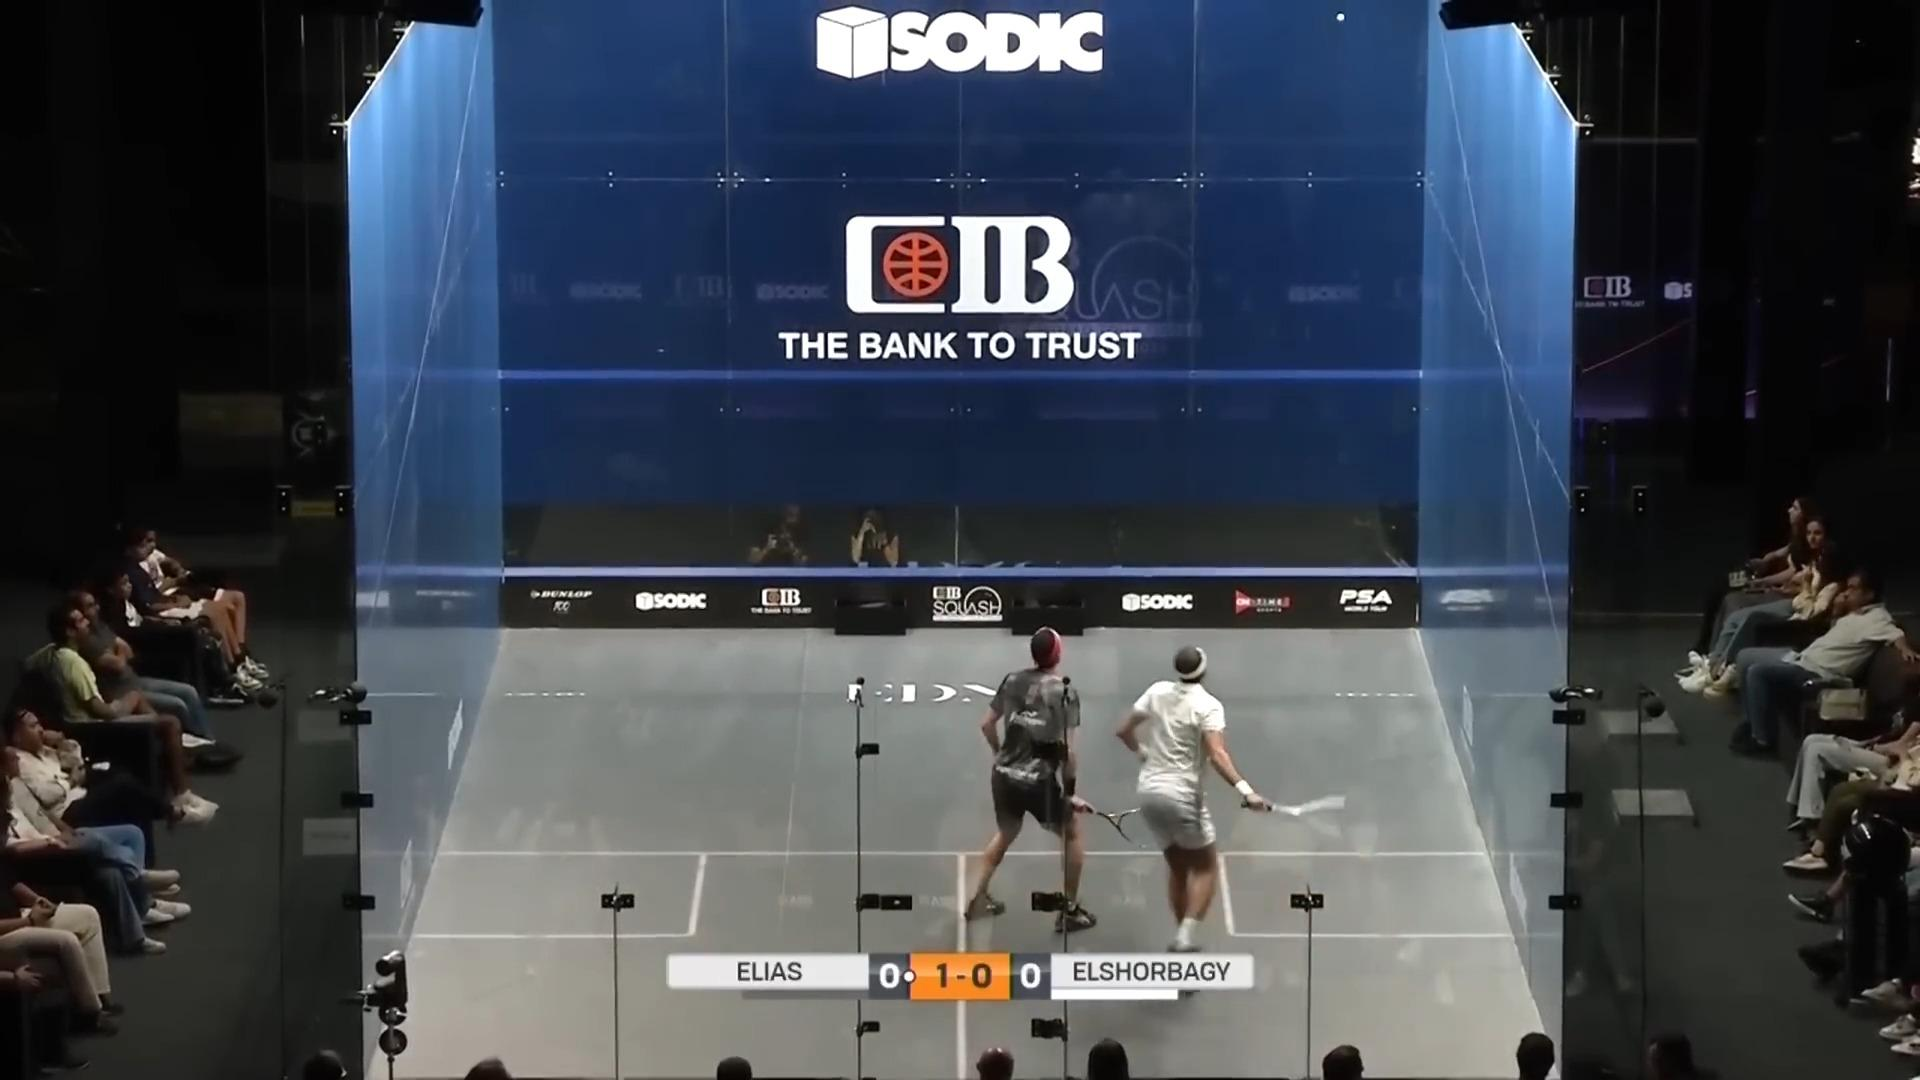Squash-Ball: (1331, 7, 1350, 32)
